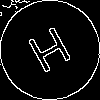H: (25, 25, 79, 83)
